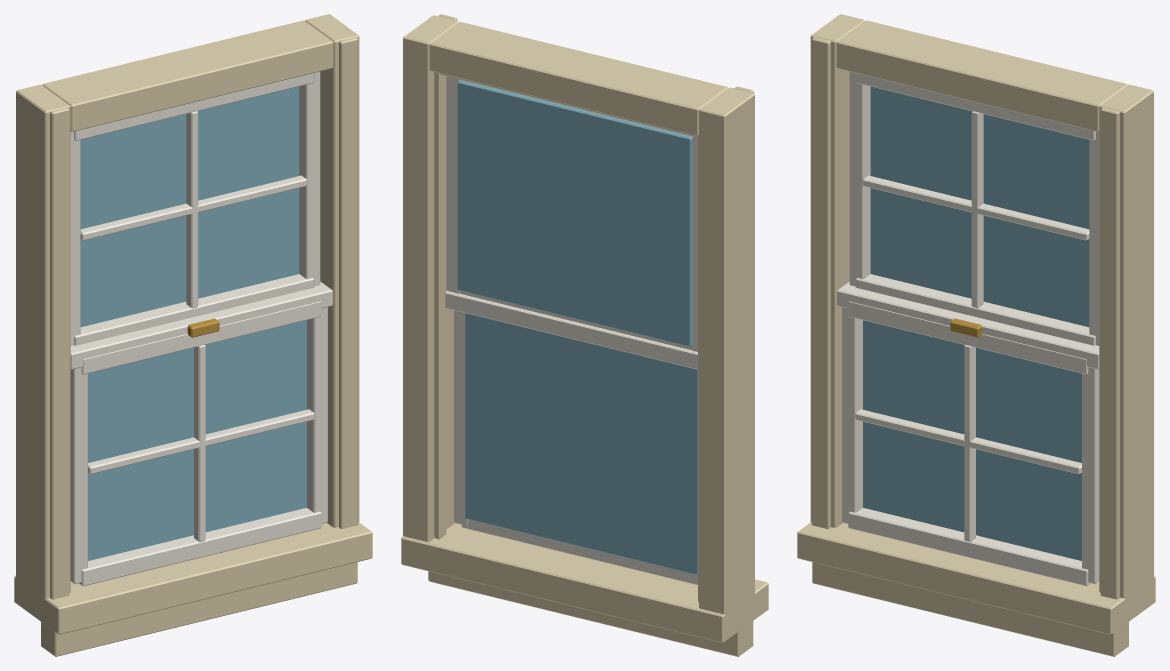
The model's file is b12_double_hung_sash_window.glb.
3 renders of one model, left to right at view 1: azimuth 30°, elevation 25°; view 2: azimuth 150°, elevation 25°; view 3: azimuth 330°, elevation 25°, orthographic. The views are drawn at different scales.
Visible parts, largest first — view 1: b12_double_hung_sash_window; view 2: b12_double_hung_sash_window; view 3: b12_double_hung_sash_window.
Part boxes in pixels (<box>): b12_double_hung_sash_window: <box>14,14,372,656</box>; b12_double_hung_sash_window: <box>401,14,768,656</box>; b12_double_hung_sash_window: <box>797,14,1155,656</box>.
Bounding box in the file's own units: 1.09 × 1.8 × 0.27.
